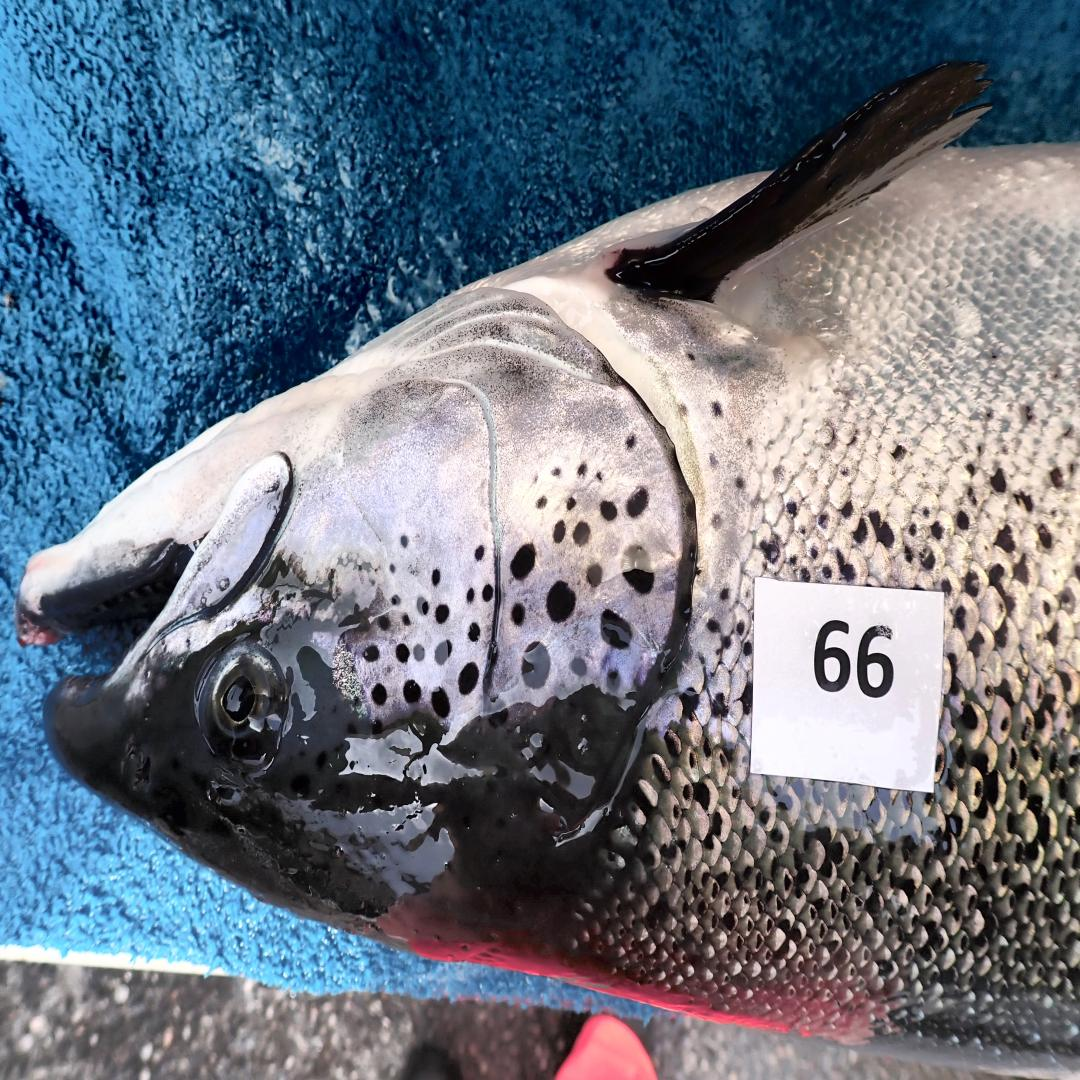spot: (621, 546, 654, 595), (521, 641, 551, 689), (601, 610, 633, 650), (546, 582, 576, 623), (510, 543, 536, 580), (626, 487, 648, 518), (458, 662, 478, 695), (486, 698, 508, 728), (431, 687, 450, 717), (435, 640, 452, 666), (403, 680, 421, 703), (585, 563, 602, 587), (599, 499, 618, 520), (572, 523, 590, 545), (371, 683, 388, 706), (511, 604, 526, 628), (568, 658, 587, 676), (606, 671, 621, 691), (395, 644, 410, 663), (553, 520, 565, 543), (363, 646, 380, 662), (435, 605, 449, 624), (468, 622, 481, 641), (482, 584, 494, 602), (417, 597, 429, 614), (378, 616, 391, 631), (413, 644, 424, 661), (431, 569, 440, 587), (474, 545, 484, 560), (466, 588, 475, 604), (536, 495, 546, 509), (626, 434, 635, 449), (567, 498, 575, 511), (402, 614, 410, 626), (391, 595, 400, 605), (578, 464, 586, 475), (551, 468, 562, 476), (401, 536, 408, 548), (596, 472, 602, 481), (389, 564, 395, 572)
